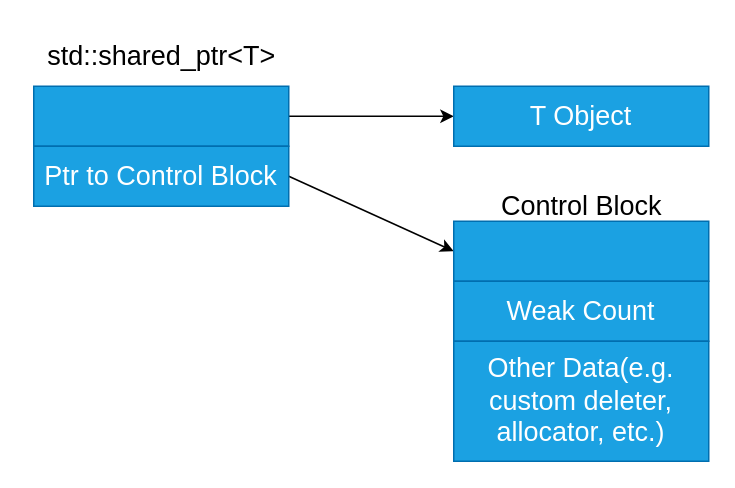
The diagram is 735 pixels wide and 488 high, and some of its shapes have lost their labels. Here are the shapes that lost their labels. From the top down, the centre of each, then its label:
point 160,115: Ptr to T
point 580,250: Reference Count
